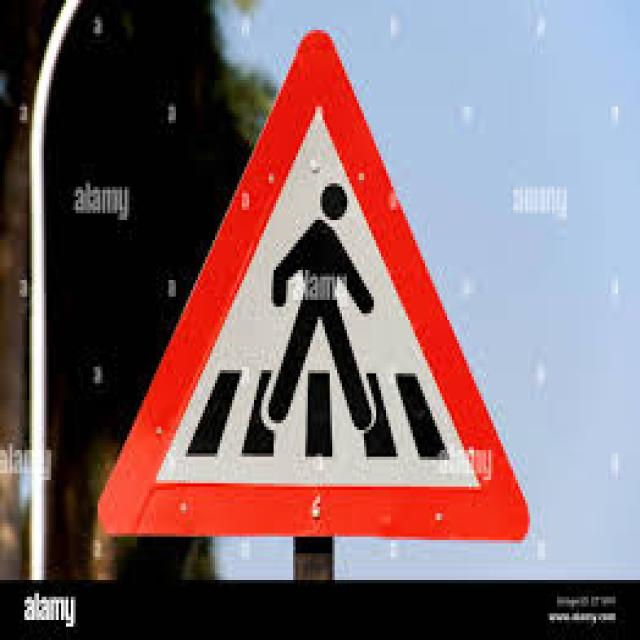Attention-Passage-Pieton: (117, 74, 512, 533)
